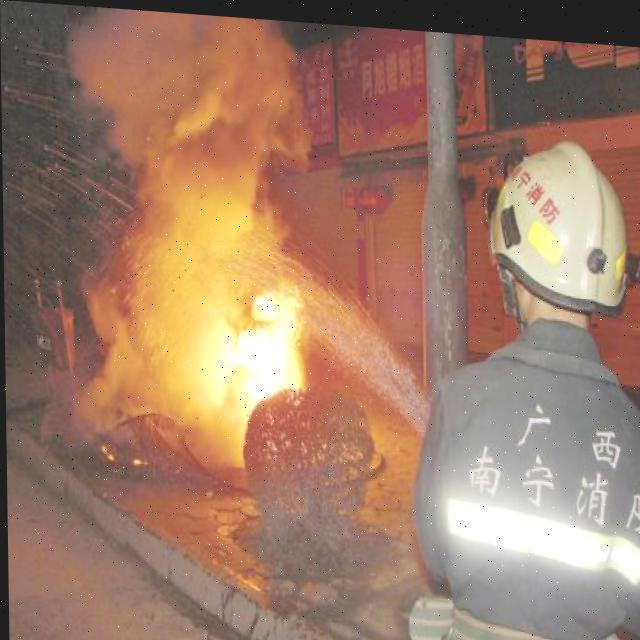Fire: (187, 258, 306, 470)
